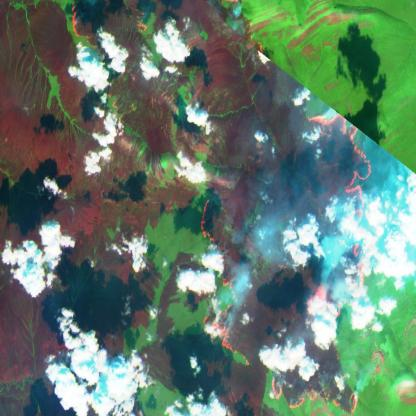fire: (197, 105, 374, 416), (66, 0, 92, 47), (128, 8, 150, 40)
